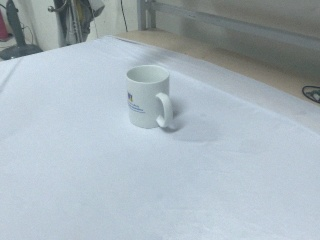cup: (126, 63, 175, 130)
